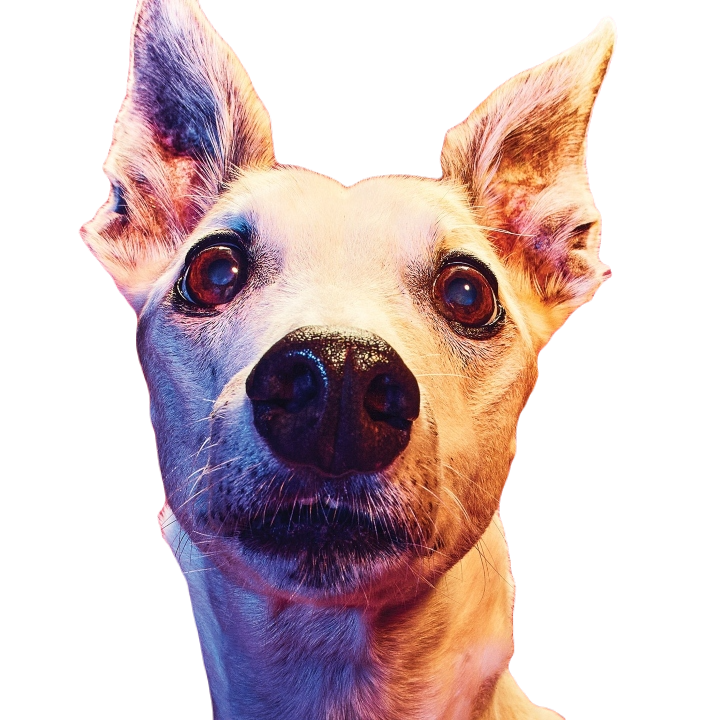Dog: (82, 2, 614, 719)
